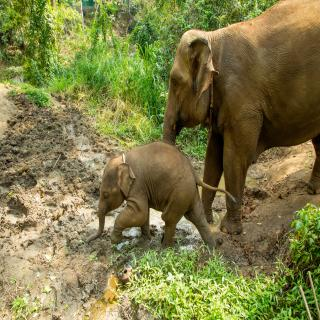Elephant: (159, 0, 320, 243), (84, 140, 229, 256)
